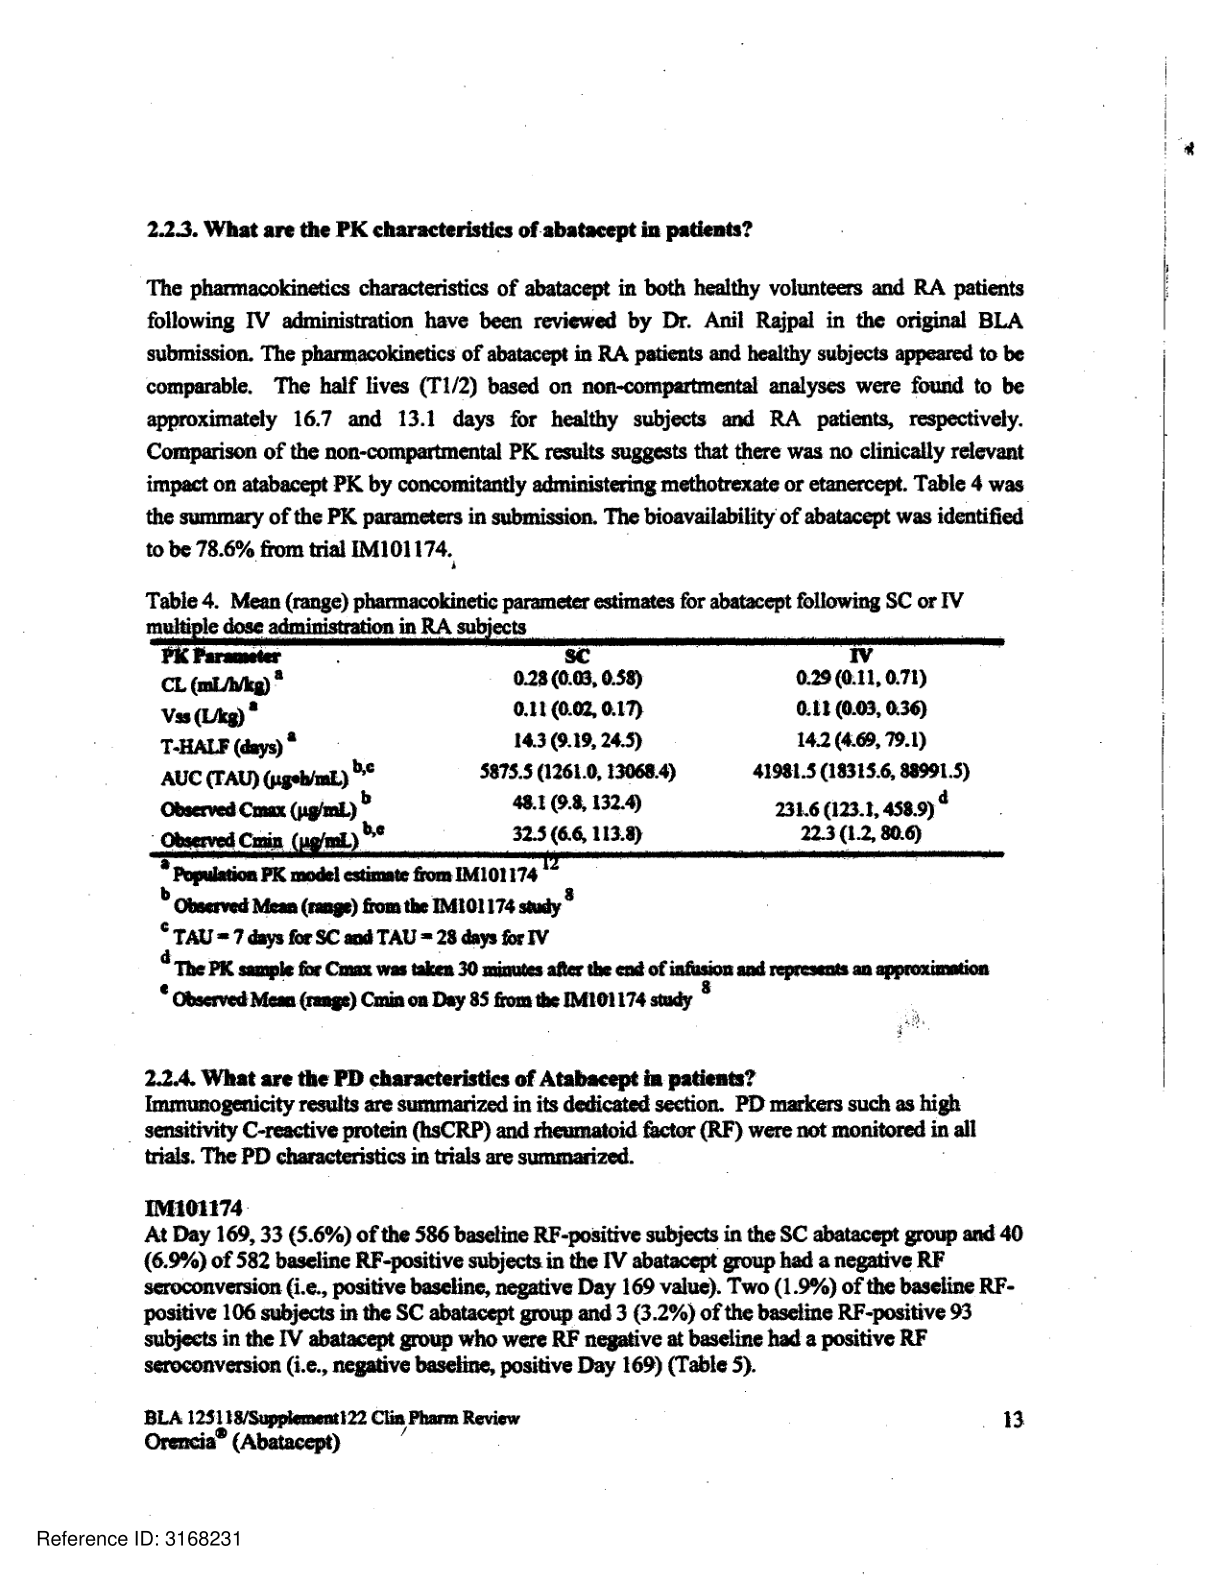partial_lined: (150, 638, 1004, 858)
